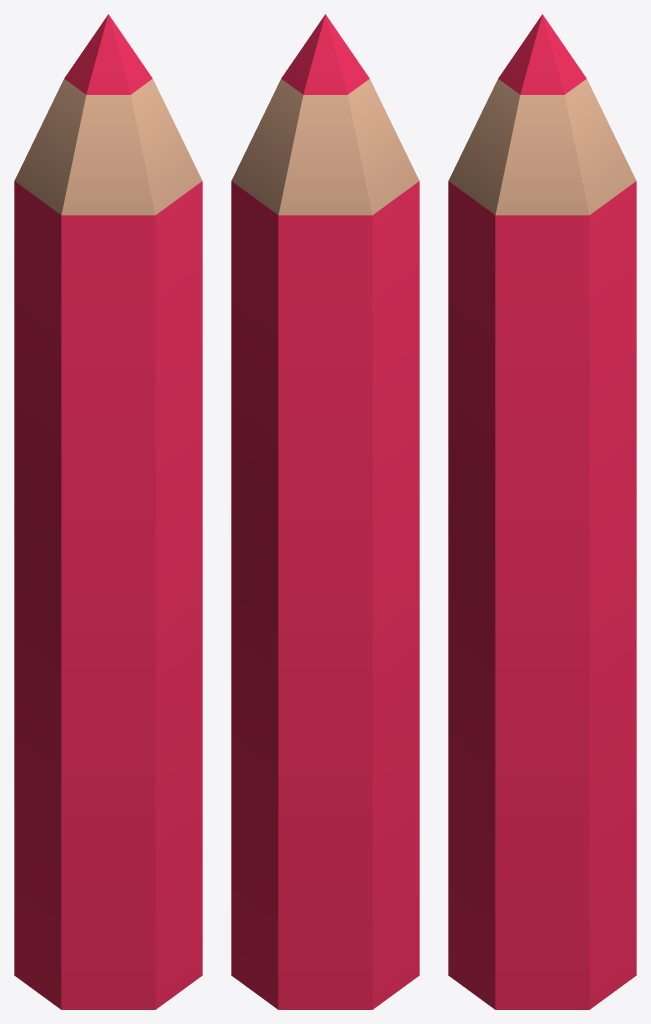
File: pencil_red.gltf.glb
3 views of the same model, side by side, from view 1: azimuth 30°, elevation 25°; view 2: azimuth 150°, elevation 25°; view 3: azimuth 270°, elevation 25° (orthographic).
Visible parts, largest first — view 1: pencil_red; view 2: pencil_red; view 3: pencil_red.
Part boxes in pixels (x1,y1,x2,y2): pencil_red: (14,14,202,1009); pencil_red: (231,14,419,1009); pencil_red: (448,14,636,1009).
Size of the model in its own units: 0.0667 by 0.4398 by 0.077.
